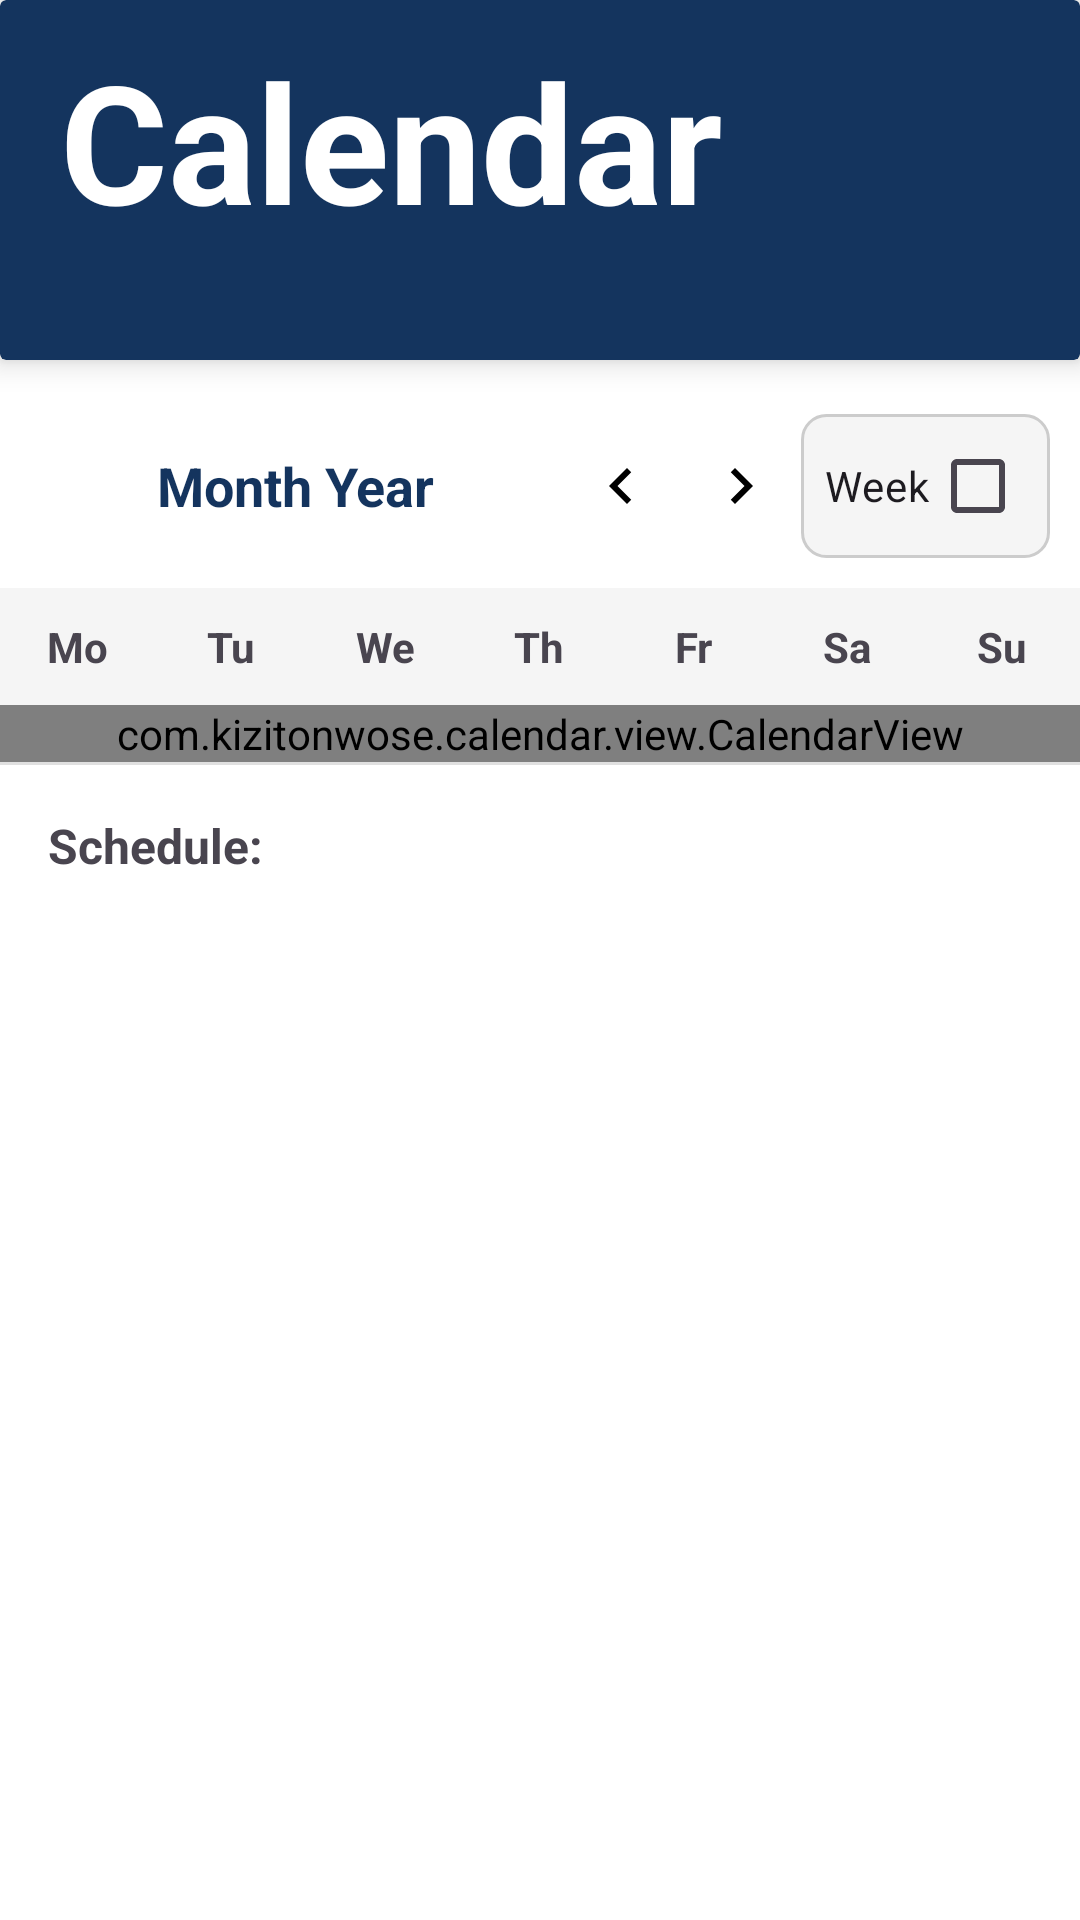

Screen size 1080×1920. Icon name, then its center in pixels as (x=x, y=y):
next: (x=742, y=486)
previous: (x=620, y=486)
